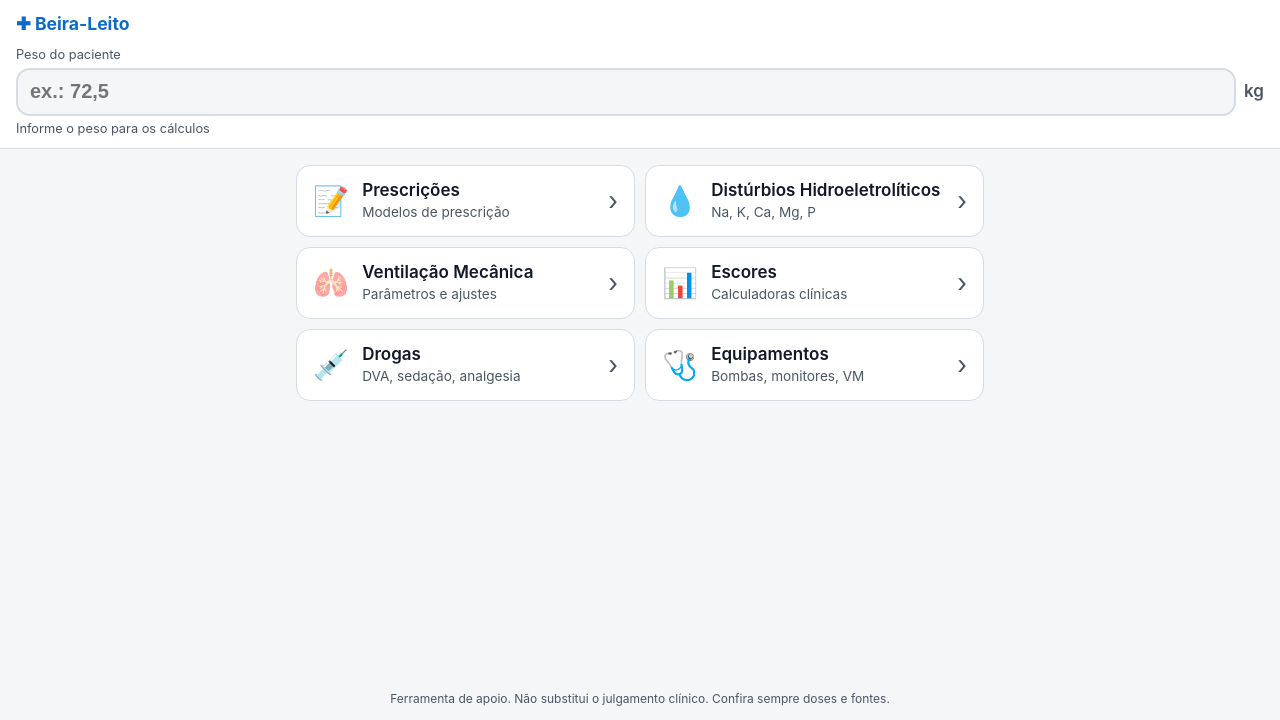
Test case: página inicial › abre a página "Prescrições"
The width and height of the screenshot is (1280, 720).
Click the link "📝 Prescrições Modelos de prescrição ›". click: (331, 200)
box: left=296, top=165, right=635, bottom=237
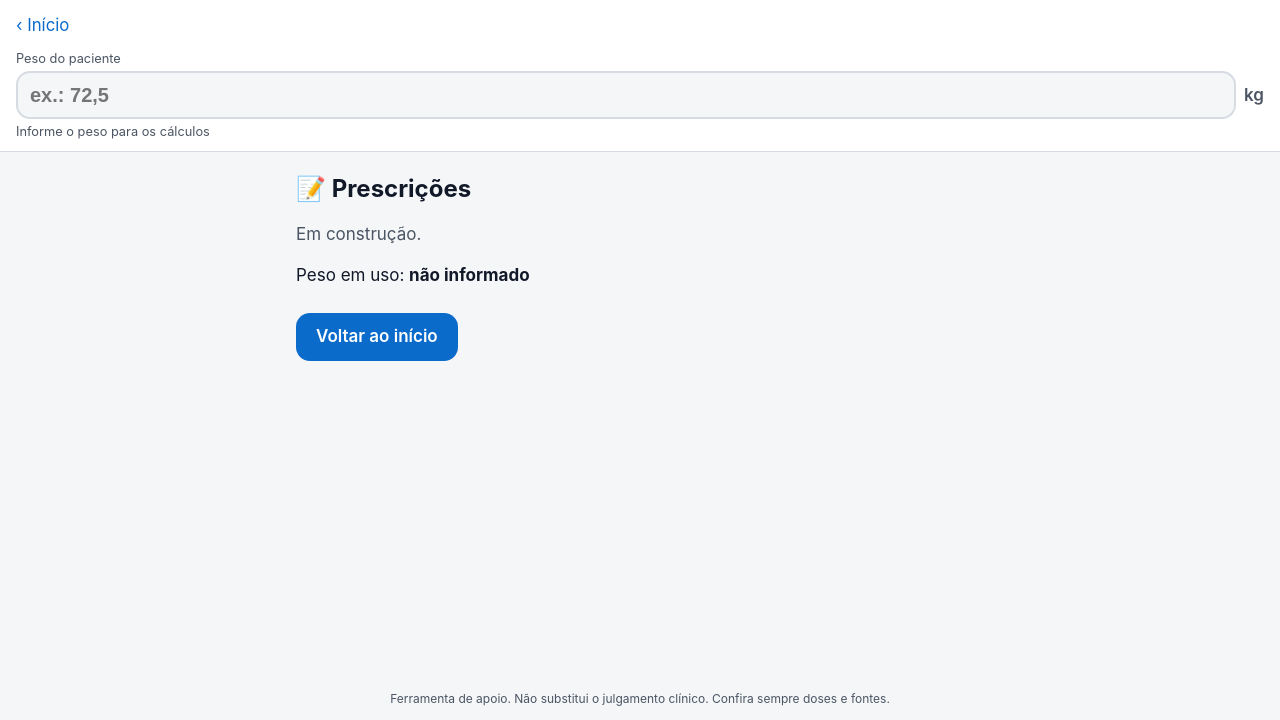
Check: the heading shows "Prescrições", box left=332, top=174, right=471, bottom=203
Check: the text "Em construção." is shown, box left=296, top=224, right=421, bottom=244
